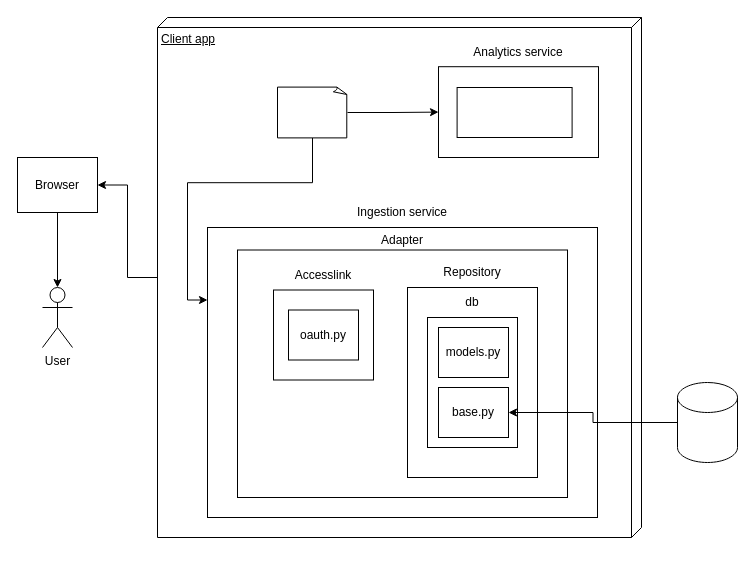
The diagram is 755 pixels wide and 585 high, and some of its shapes have lost their labels. The centre of each missing label's shape, as x and y in pixels:
"DTOs" belongs at (x=312, y=112).
"Step DB" belongs at (x=707, y=422).
"UserStepsPlotter" belongs at (x=514, y=112).
